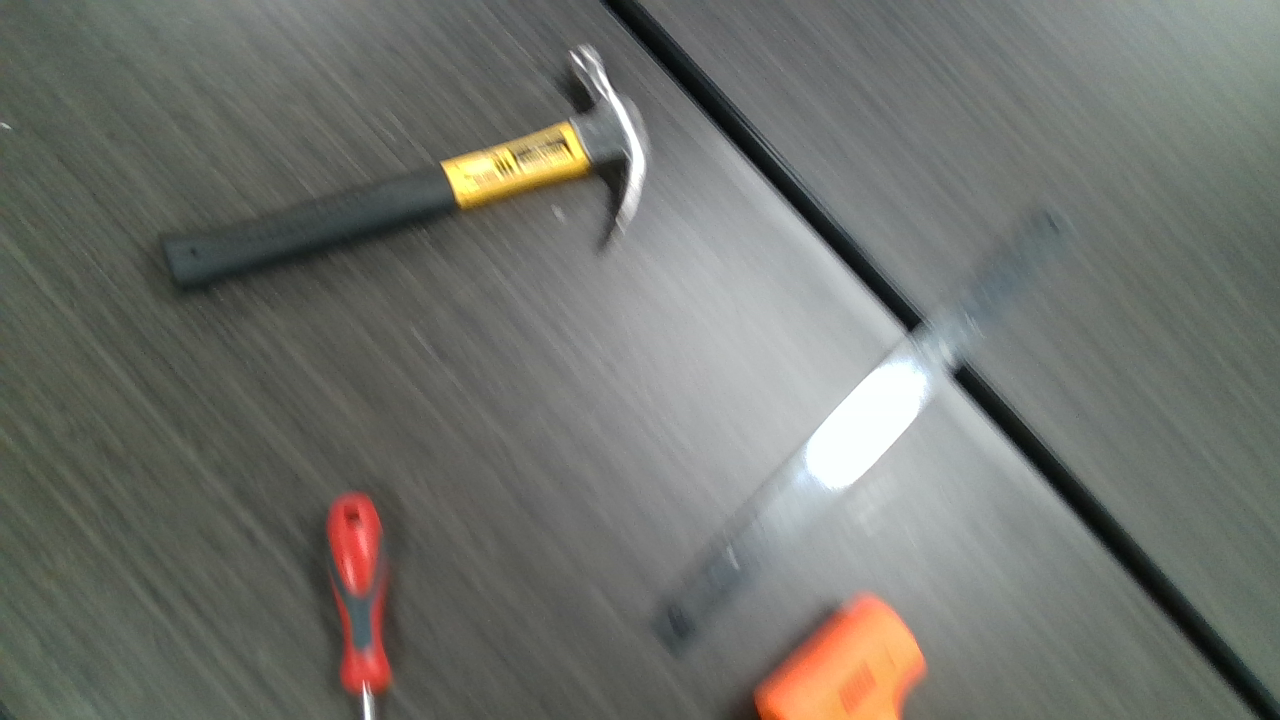Orange Hammer: (749, 593, 928, 720)
